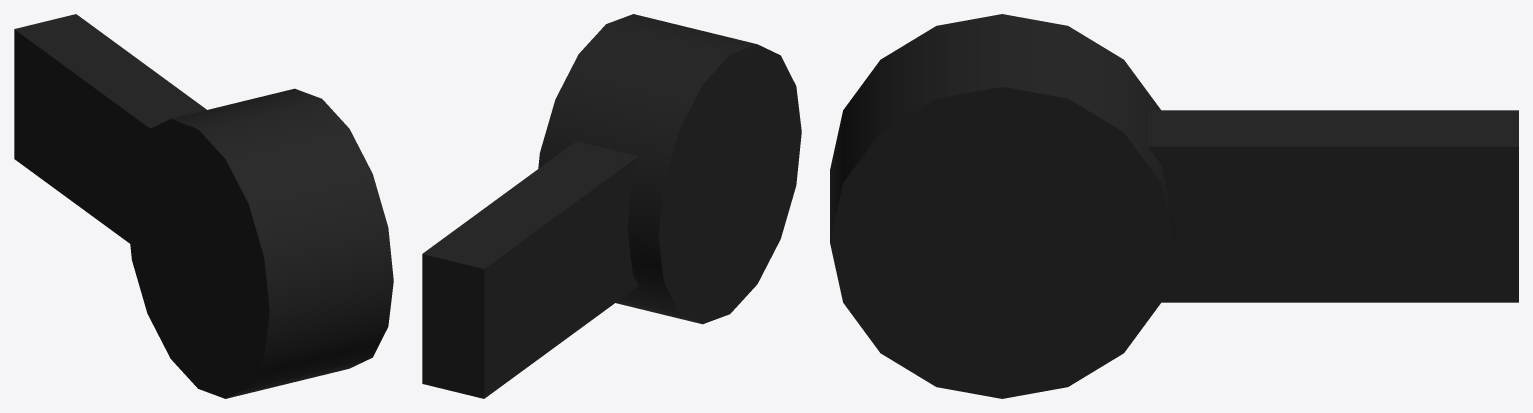
The model's file is 27_key.glb.
3 views of the same model, side by side, from view 1: azimuth 30°, elevation 25°; view 2: azimuth 150°, elevation 25°; view 3: azimuth 270°, elevation 25° (orthographic). The views are drawn at different scales.
Parts seen in each view (by area): view 1: items/27_key; view 2: items/27_key; view 3: items/27_key.
Part boxes in pixels (<box>): items/27_key: <box>14,14,393,398</box>; items/27_key: <box>422,14,801,398</box>; items/27_key: <box>830,14,1518,398</box>.
Size of the model in its own units: 0.0313 by 0.0625 by 0.125.
Materials: 1 (1 with a texture image).
